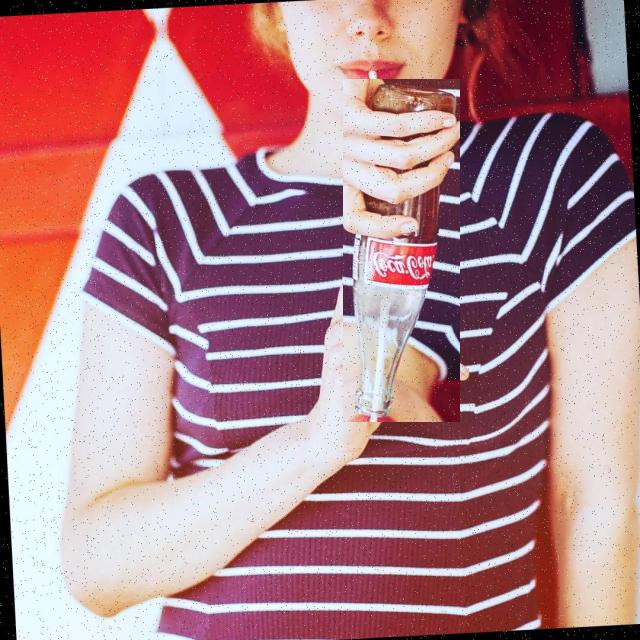coca-cola: (343, 79, 460, 422)
